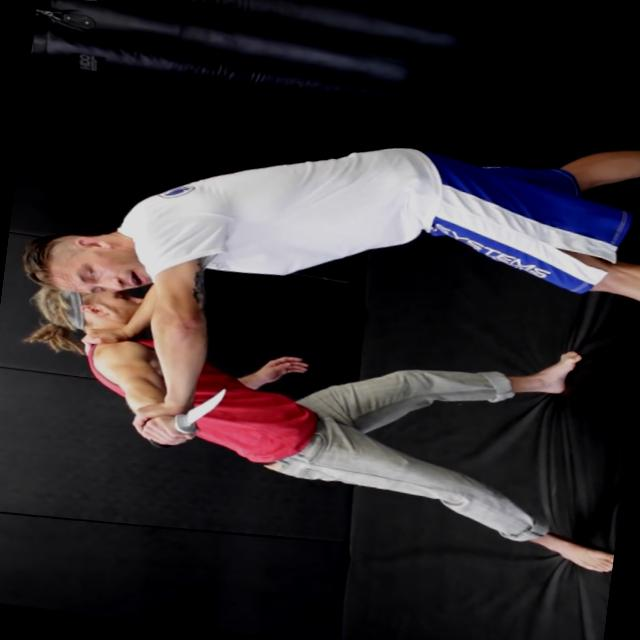knife: (141, 373, 232, 458)
